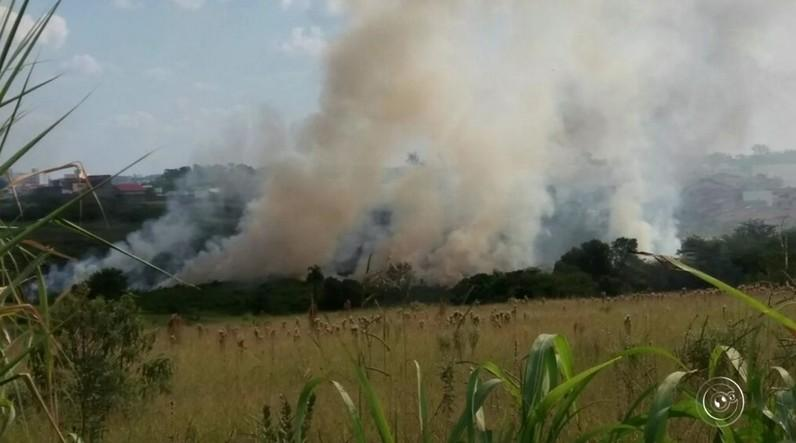smoke: (339, 31, 687, 140), (433, 150, 533, 258), (277, 149, 353, 259)
